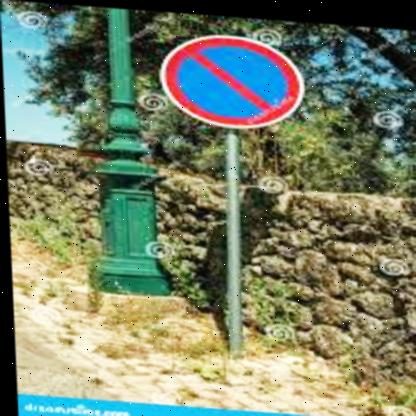No parking: (151, 21, 317, 134)
